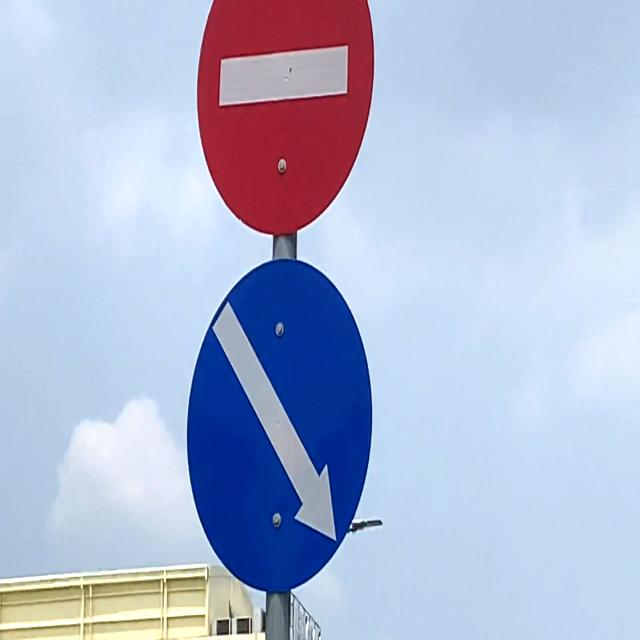P.102: (196, 0, 375, 238)
R.302a: (185, 256, 373, 595)
